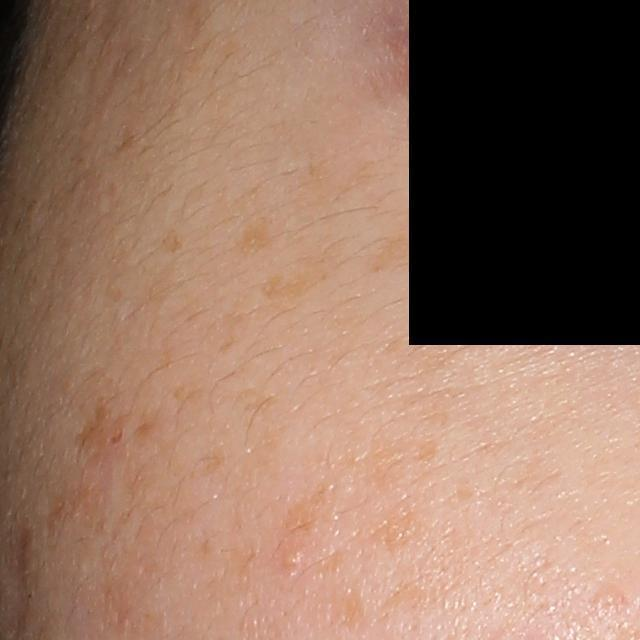melasma: (346, 428, 442, 493), (255, 248, 346, 305), (375, 569, 453, 621), (74, 392, 134, 457), (281, 469, 333, 540), (359, 225, 425, 277), (227, 212, 282, 259), (383, 496, 426, 554), (337, 580, 373, 637), (195, 442, 231, 479), (132, 410, 167, 446), (156, 225, 188, 255)
